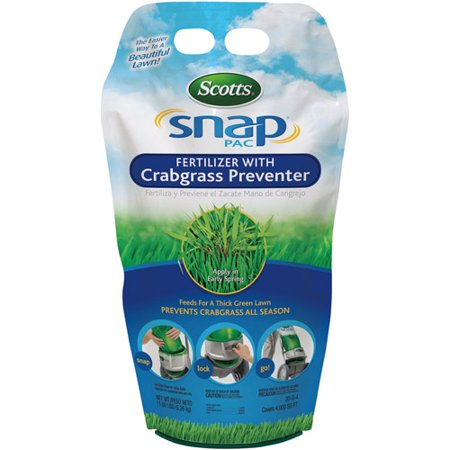crabgrass: (175, 201, 271, 258)
